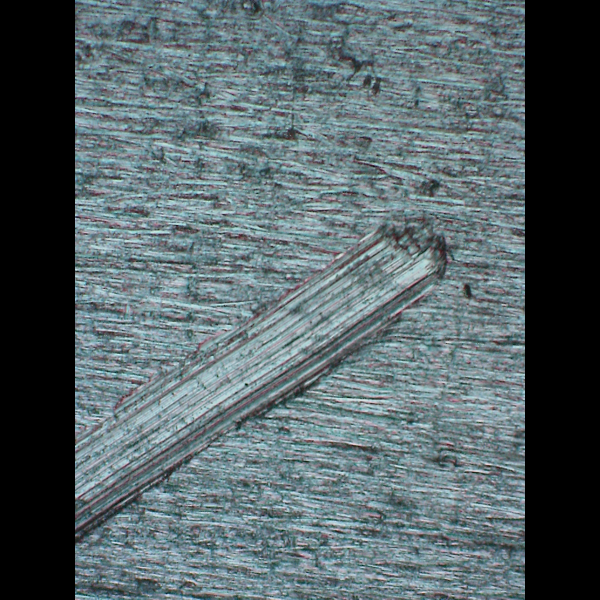d: (75, 217, 457, 551)
